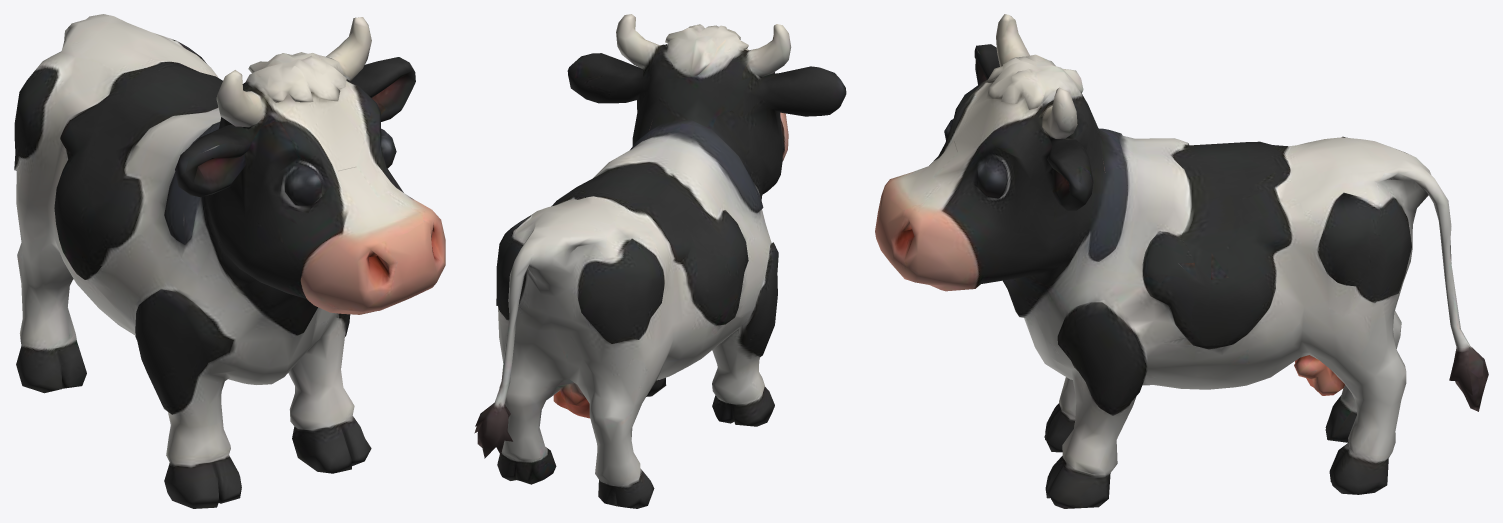
The model's file is cow.glb.
The picture shows the model from 3 angles, left to right: view 1: azimuth 30°, elevation 25°; view 2: azimuth 150°, elevation 25°; view 3: azimuth 270°, elevation 25°; orthographic projection. The views are drawn at different scales.
Visible parts, largest first — view 1: tripo_node_ba82f9aa-d79c-47ed-ba16-8934f0787f03; view 2: tripo_node_ba82f9aa-d79c-47ed-ba16-8934f0787f03; view 3: tripo_node_ba82f9aa-d79c-47ed-ba16-8934f0787f03.
Part boxes in pixels (x1,y1,x2,y2): tripo_node_ba82f9aa-d79c-47ed-ba16-8934f0787f03: [14, 14, 445, 508]; tripo_node_ba82f9aa-d79c-47ed-ba16-8934f0787f03: [474, 14, 846, 508]; tripo_node_ba82f9aa-d79c-47ed-ba16-8934f0787f03: [875, 14, 1488, 508].
Size of the model in its own units: 0.5081 by 0.7638 by 1.
Materials: 1 (1 with a texture image).
